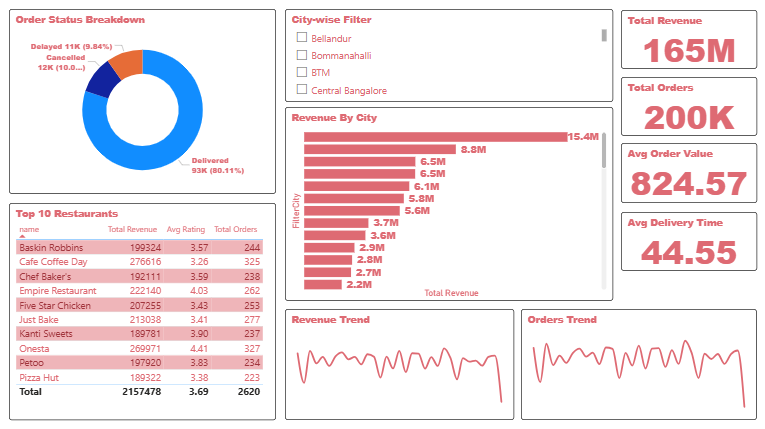

The page's visual inventory and layout, read from the dashboard file:
{"tool":"powerbi","page":{"name":"Executive Overview","canvas":[1280,720],"ordinal":0},"visuals":[{"type":"card","title":"Total Revenue","fields":{"Values":["Orders.Total Revenue"]},"box":[1040,18.3,226.7,98.3],"z":0},{"type":"card","title":"Total Orders","fields":{"Values":["Orders.Total Orders"]},"box":[1040,130,226.7,98.3],"z":1000},{"type":"card","title":"Avg Order Value","fields":{"Values":["Orders.Avg Order Value"]},"box":[1040,240,226.7,100],"z":2000},{"type":"card","title":"Avg Delivery Time","fields":{"Values":["Orders.Avg Delivery Time"]},"box":[1040,355,226.7,98.3],"z":3000},{"type":"lineChart","title":"Revenue Trend","fields":{"Y":["Orders.Total Revenue"],"Category":["DateTable.Date.Variation.Date Hierarchy.Year","DateTable.Date.Variation.Date Hierarchy.Quarter","DateTable.Date.Variation.Date Hierarchy.Month"]},"box":[480,516.7,381.7,185],"z":4000},{"type":"lineChart","title":"Orders Trend","fields":{"Y":["Orders.Total Orders"],"Category":["DateTable.Date.Variation.Date Hierarchy.Year","DateTable.Date.Variation.Date Hierarchy.Quarter","DateTable.Date.Variation.Date Hierarchy.Month"]},"box":[873.3,516.7,393.3,185],"z":5000},{"type":"barChart","title":"Revenue By City","fields":{"Category":["Customers.FilterCity"],"Y":["Orders.Total Revenue"]},"box":[480,180,546.7,323.3],"z":6000},{"type":"donutChart","title":"Order Status Breakdown","fields":{"Category":["Orders.OrderStatus"],"Y":["Orders.Total Orders"]},"box":[20,16.7,445,308.3],"z":7000},{"type":"tableEx","title":"Top 10 Restaurants","fields":{"Values":["Restaurants.name","Orders.Total Revenue","Orders.Avg Rating","Orders.Total Orders"]},"box":[20,340,445,361.7],"z":8000},{"type":"slicer","title":"City-wise Filter","fields":{"Values":["Customers.FilterCity"]},"box":[480,16.7,546.7,155],"z":9001}]}

Visuals, with their boxes in screenshot pixels (x1, y1, x2, y2), scaled from the page's 1280x720 canvas onto the 765x429 screenshot:
"Total Revenue" card: detection(622, 11, 757, 69)
"Total Orders" card: detection(622, 77, 757, 136)
"Avg Order Value" card: detection(622, 143, 757, 203)
"Avg Delivery Time" card: detection(622, 212, 757, 270)
"Revenue Trend" lineChart: detection(287, 308, 515, 418)
"Orders Trend" lineChart: detection(522, 308, 757, 418)
"Revenue By City" barChart: detection(287, 107, 614, 300)
"Order Status Breakdown" donutChart: detection(12, 10, 278, 194)
"Top 10 Restaurants" tableEx: detection(12, 203, 278, 418)
"City-wise Filter" slicer: detection(287, 10, 614, 102)
